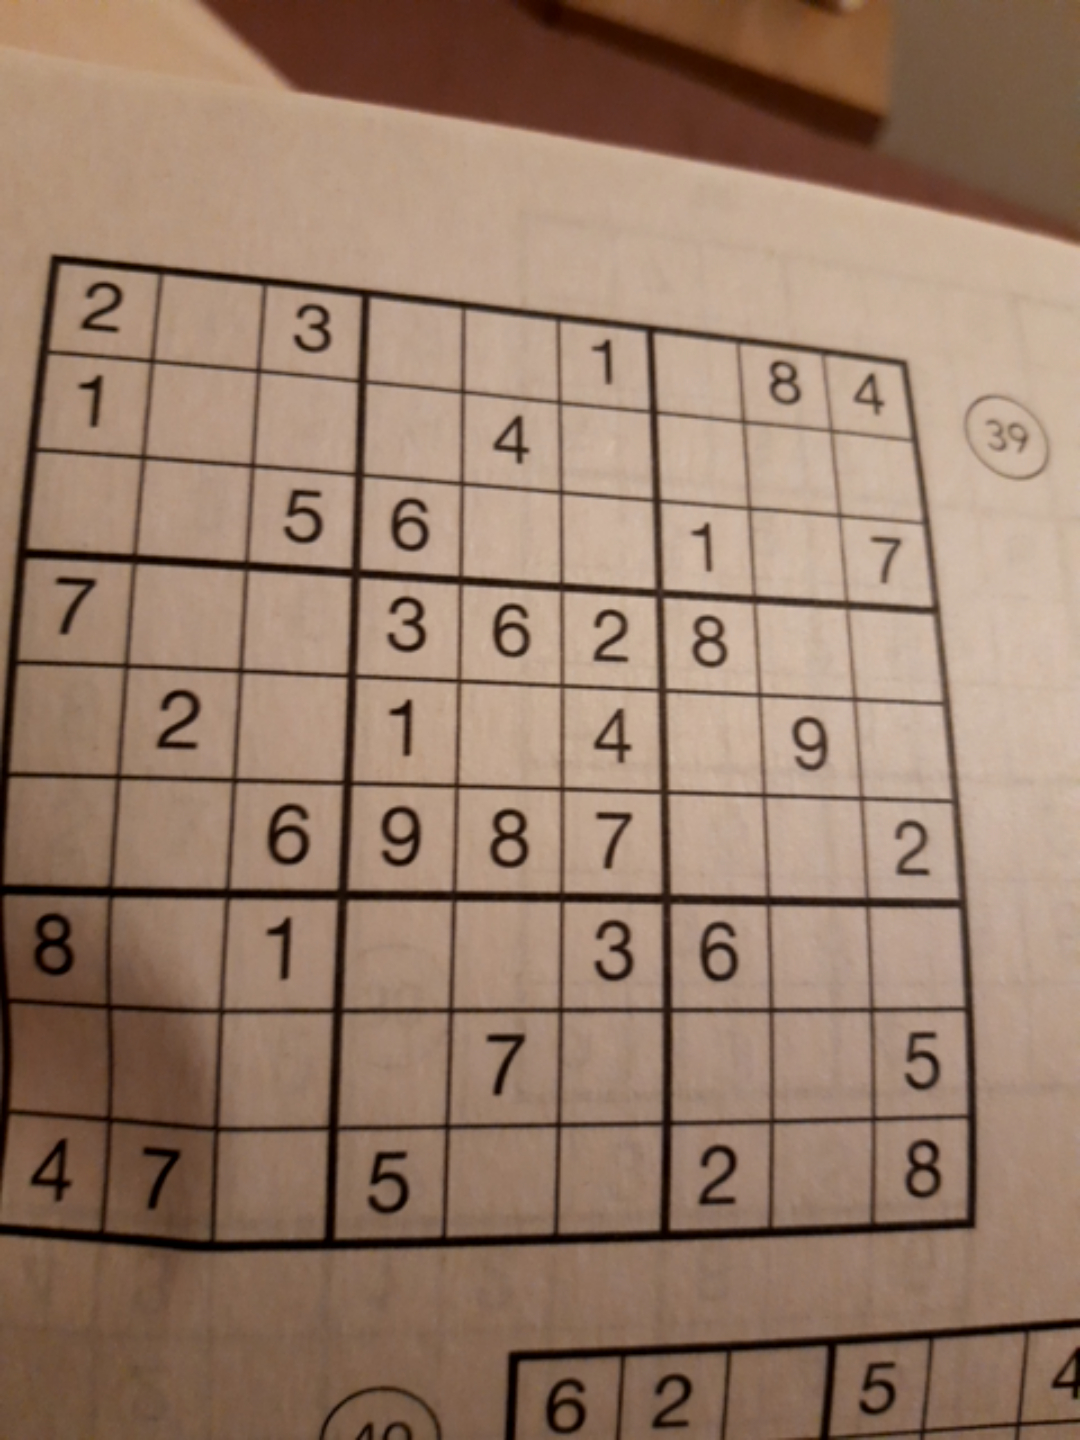sudoku: (6, 251, 977, 1247)
